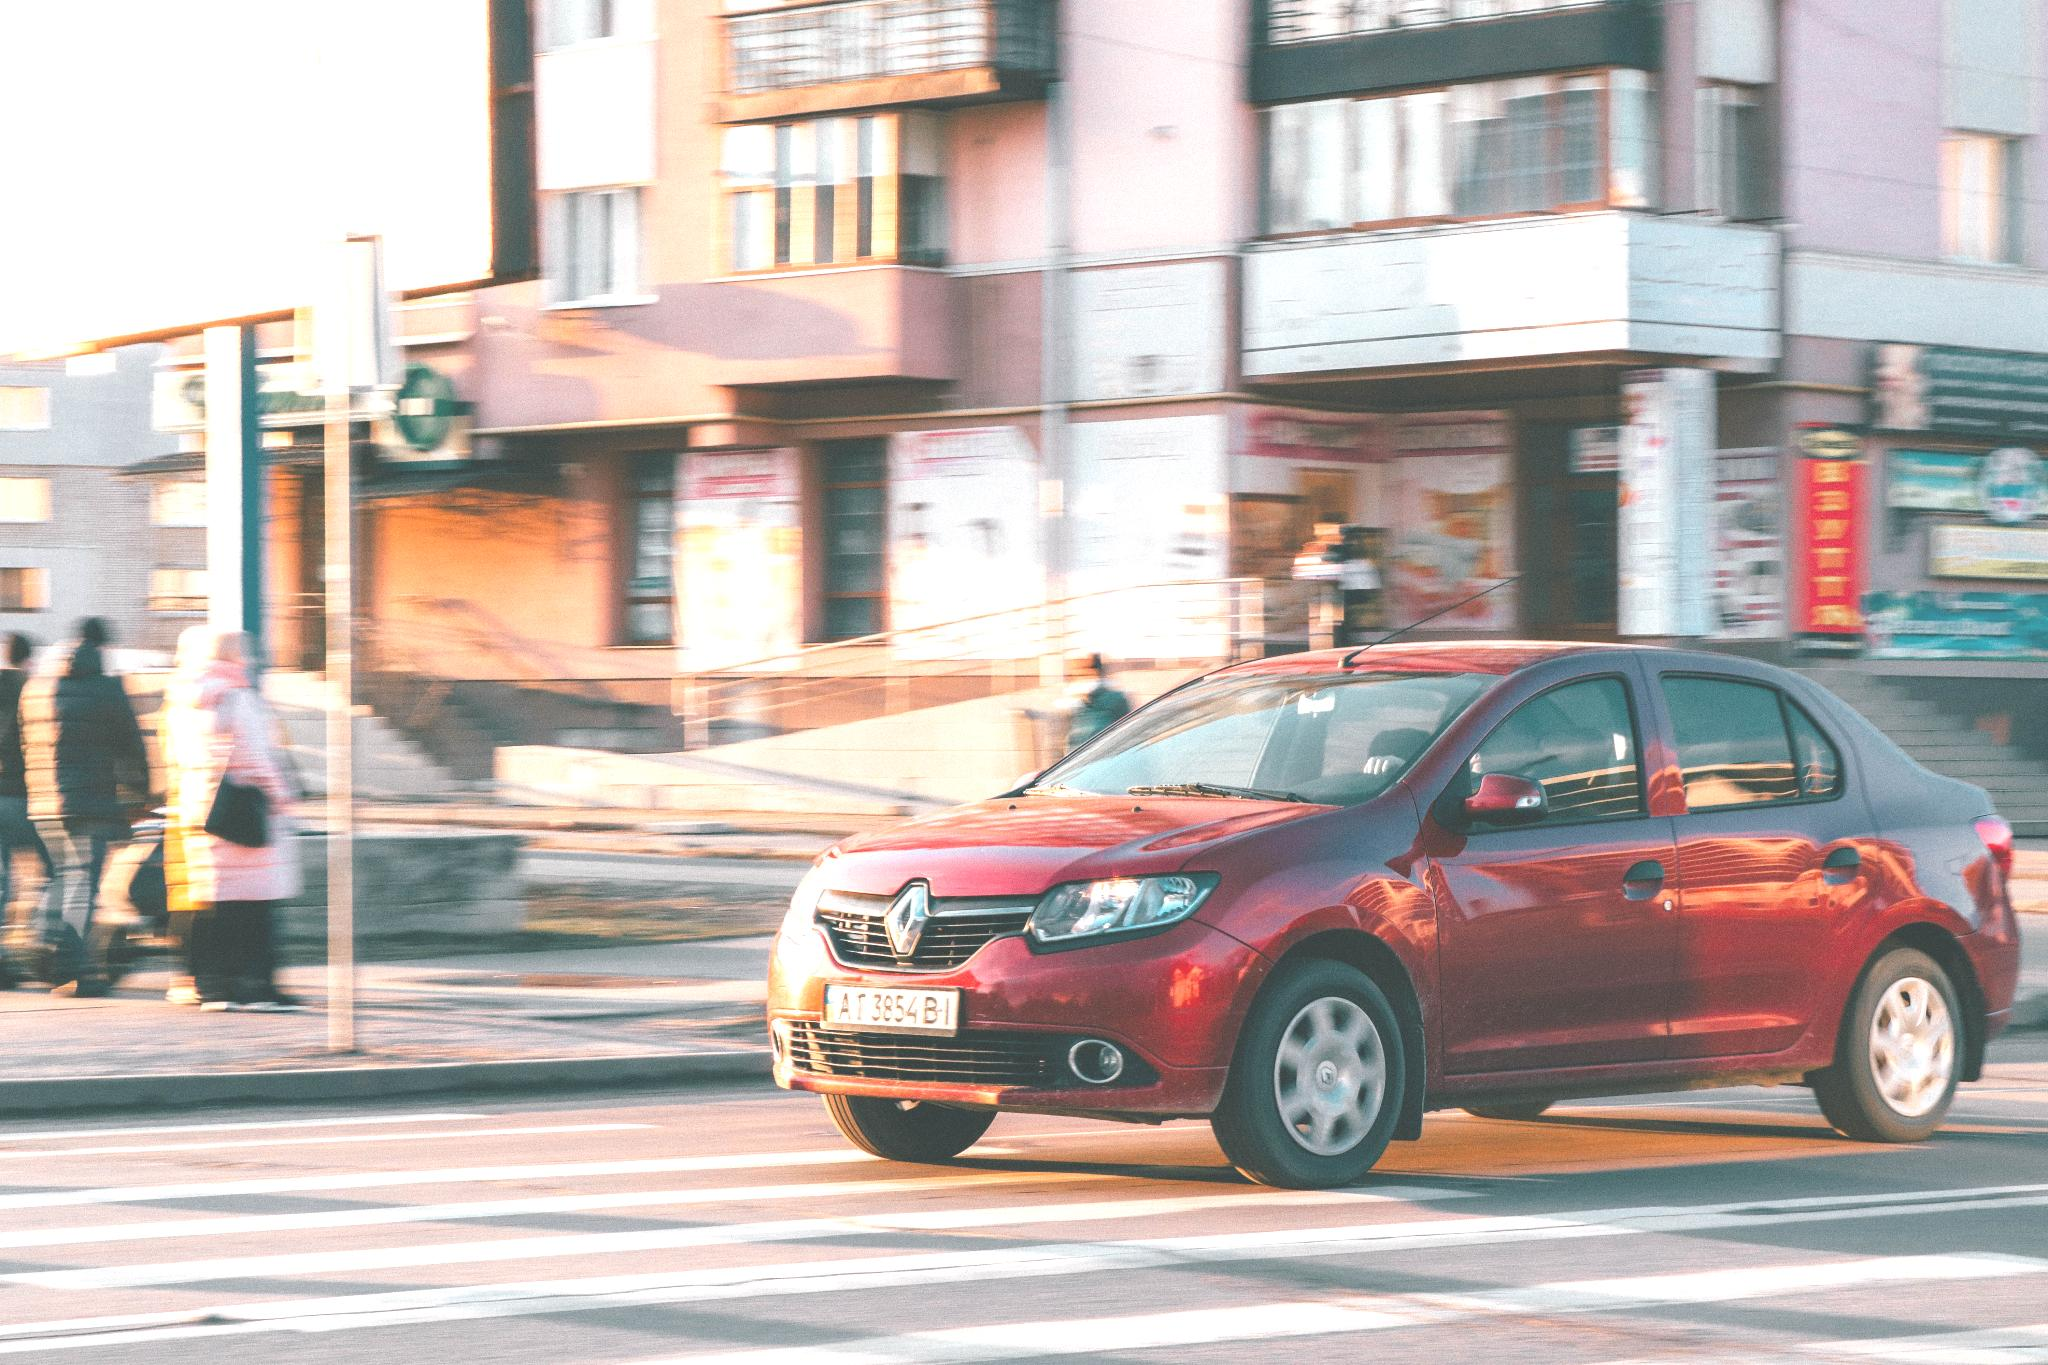Renault: (868, 871, 944, 975)
